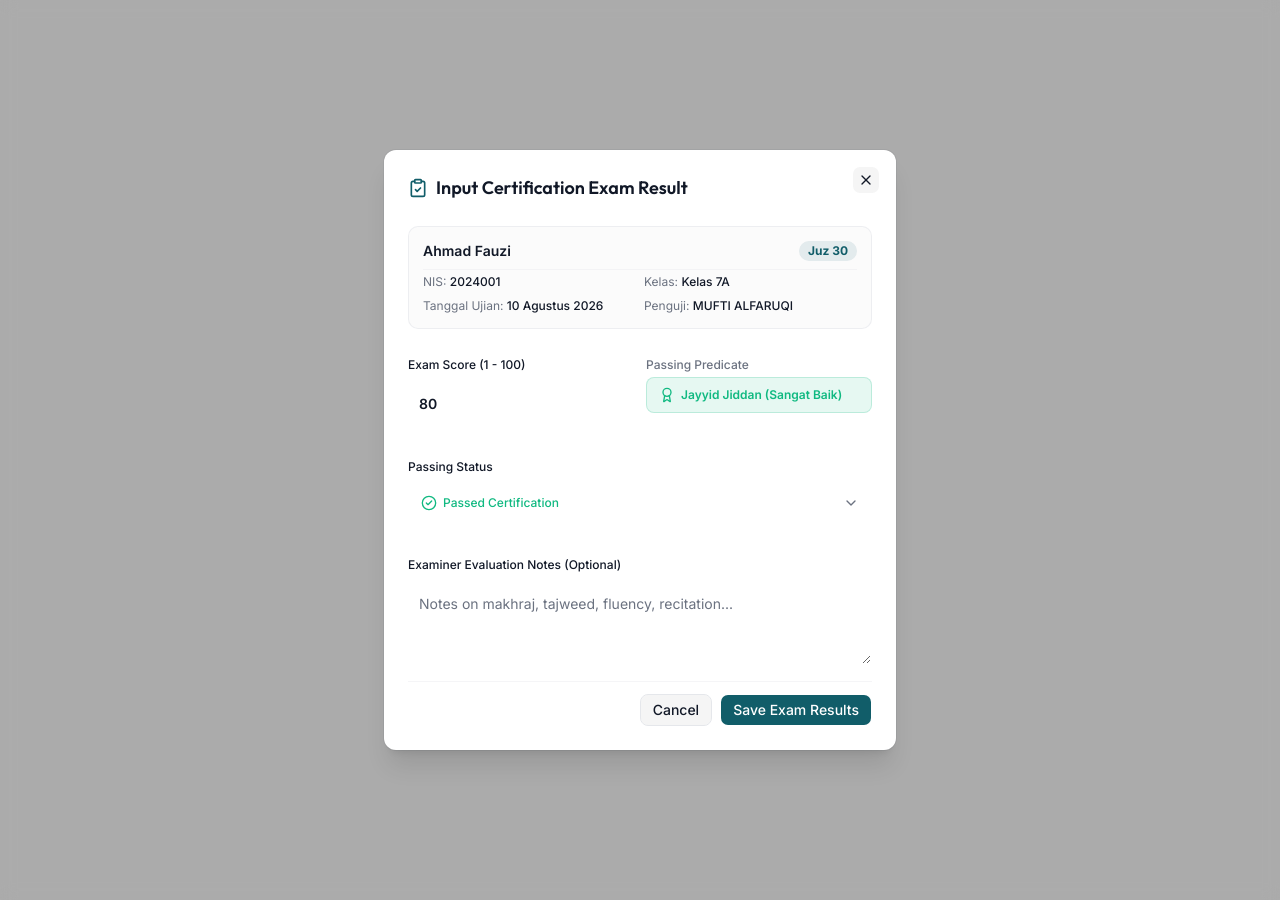
Scenario: SertifikasiGradingDialog Component › should render grading dialog and show live predicate
The image size is (1280, 900).
Expected: the heading "Input Certification Exam Result" is shown, [408,176,688,199]
Expected: the text "Ahmad Fauzi" is shown, [423,241,511,261]
Step 1. Replace the text in the field with placeholder "1 - 100" with "95" → x=521, y=403, box [408,385,634,421]
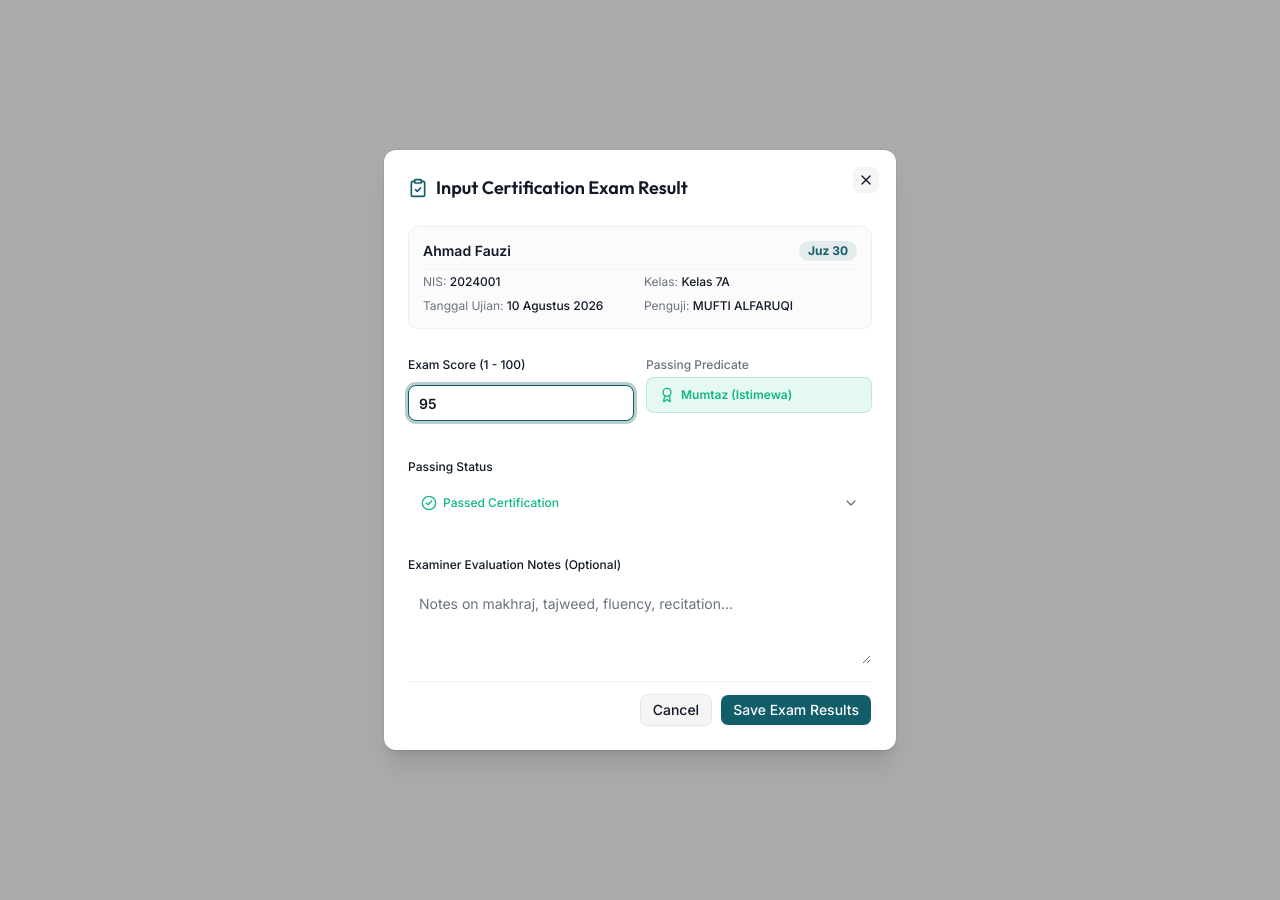
Result: the text "Mumtaz (Istimewa)" is shown at [681,387,792,403]
